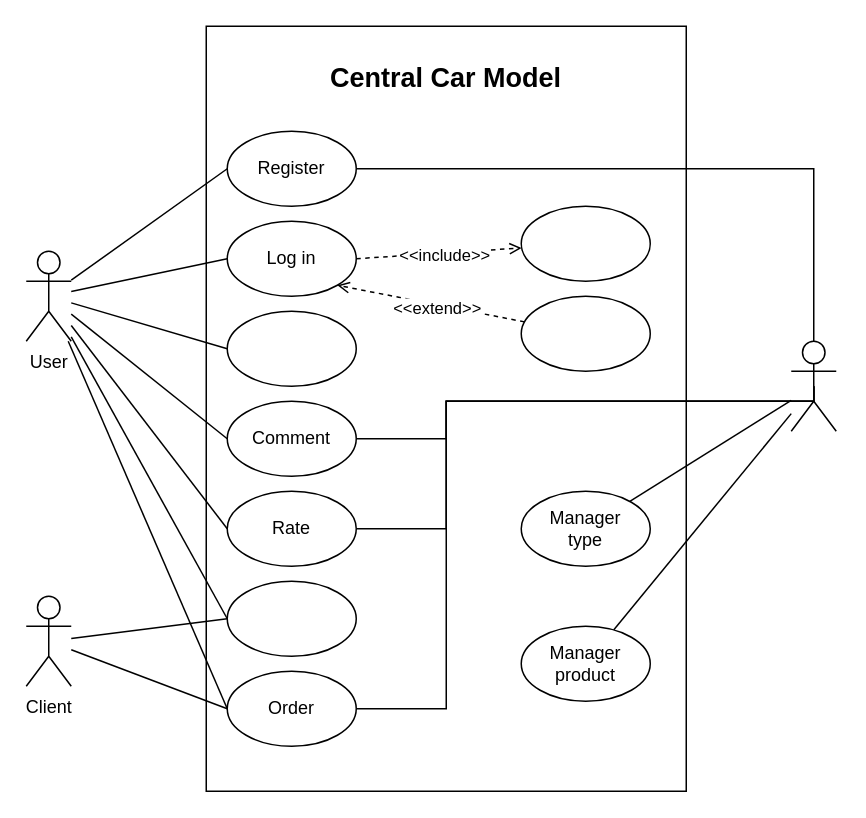
The diagram is 866 pixels wide and 818 high, and some of its shapes have lost their labels. The box of each missing label's shape, as (x1, y1, x2, y2) in pixels:
Admin: (790, 340, 836, 431)
Check user/pass: (520, 205, 650, 281)
Edit information: (226, 310, 356, 386)
Search: (226, 580, 356, 656)
Show Error: (520, 295, 650, 371)
